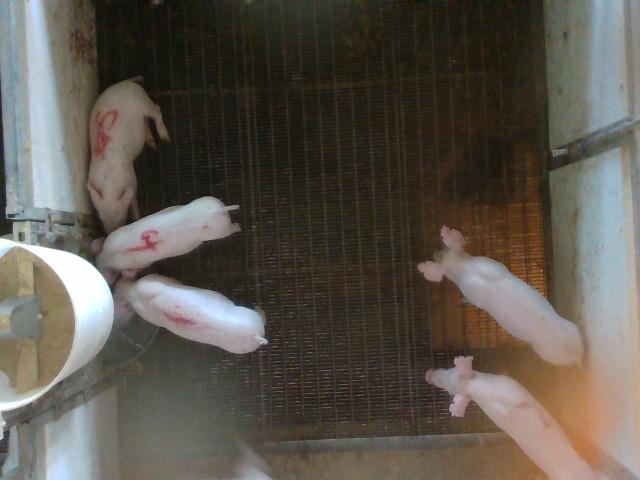pig-1: (114, 274, 268, 354)
pig-2: (426, 356, 605, 479)
pig-4: (96, 196, 239, 273)
pig-5: (88, 78, 170, 233)
